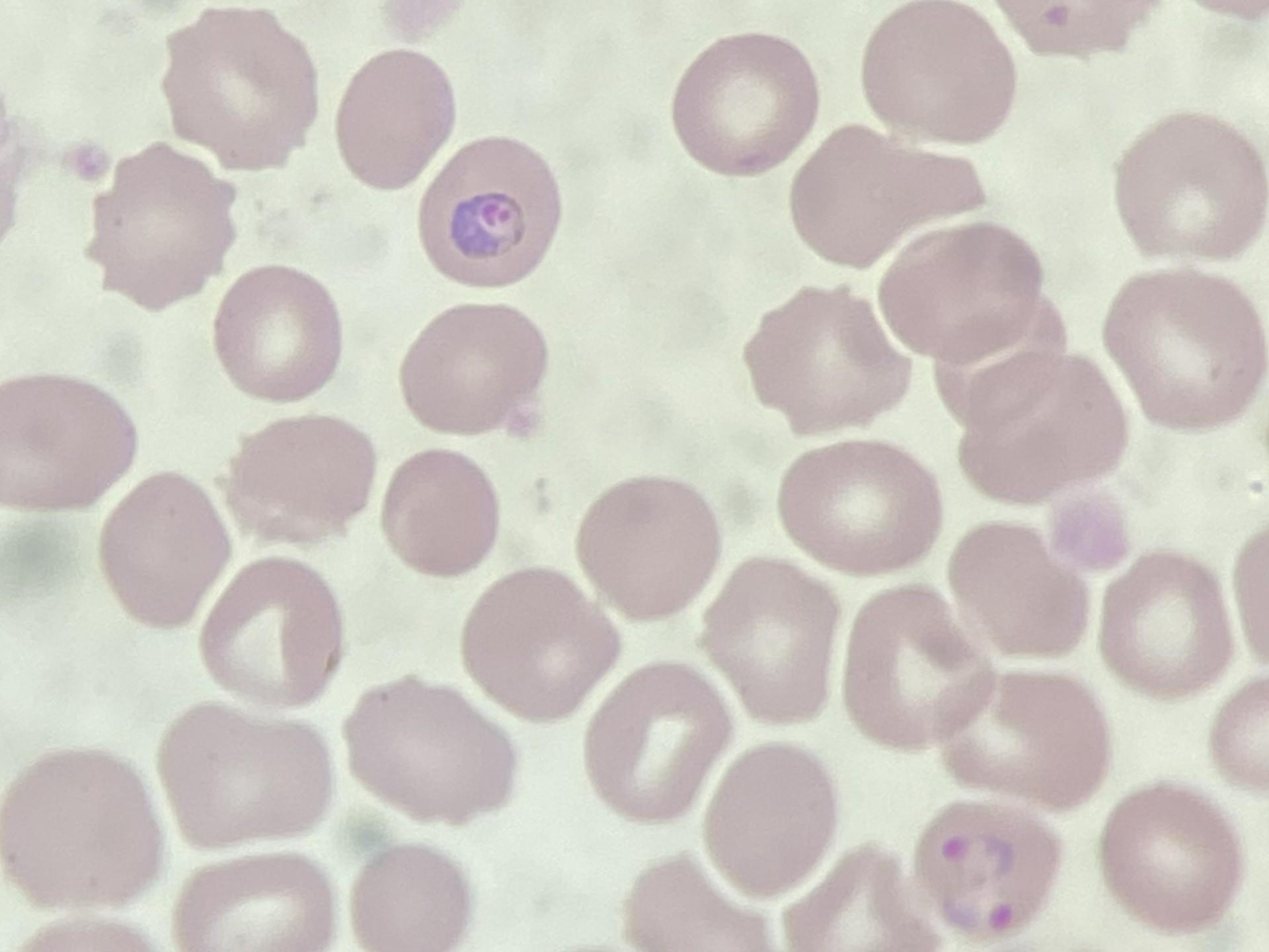Infected: (913, 801, 1066, 939), (418, 138, 558, 287)
Uninfected: (793, 126, 988, 271), (954, 354, 1130, 508), (159, 701, 334, 853), (1, 748, 163, 912), (342, 677, 516, 827), (1103, 268, 1263, 428), (161, 9, 317, 171), (839, 586, 995, 747), (742, 286, 907, 436), (580, 662, 732, 822), (878, 225, 1048, 368), (90, 143, 239, 306), (459, 568, 616, 718), (1112, 112, 1266, 259), (698, 557, 839, 717), (198, 557, 346, 709), (946, 670, 1107, 808), (776, 442, 939, 577), (697, 740, 835, 897), (862, 3, 1014, 143), (944, 521, 1092, 664), (576, 476, 721, 619), (100, 473, 233, 627), (1097, 784, 1239, 928), (221, 413, 377, 544), (673, 36, 816, 171), (401, 305, 544, 437), (1100, 551, 1232, 694), (1, 374, 135, 510), (213, 267, 341, 400), (934, 317, 1078, 434), (782, 846, 939, 951), (336, 51, 455, 188), (172, 853, 334, 952), (381, 450, 503, 576), (348, 846, 473, 951)
